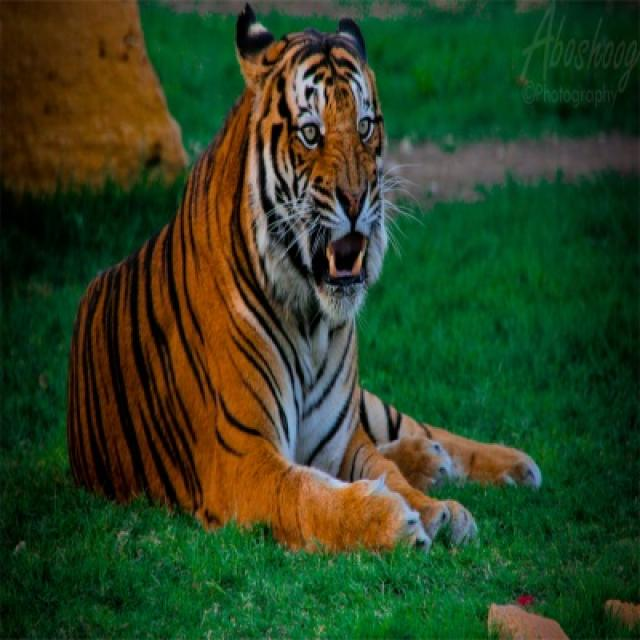Tiger: (70, 3, 544, 553)
